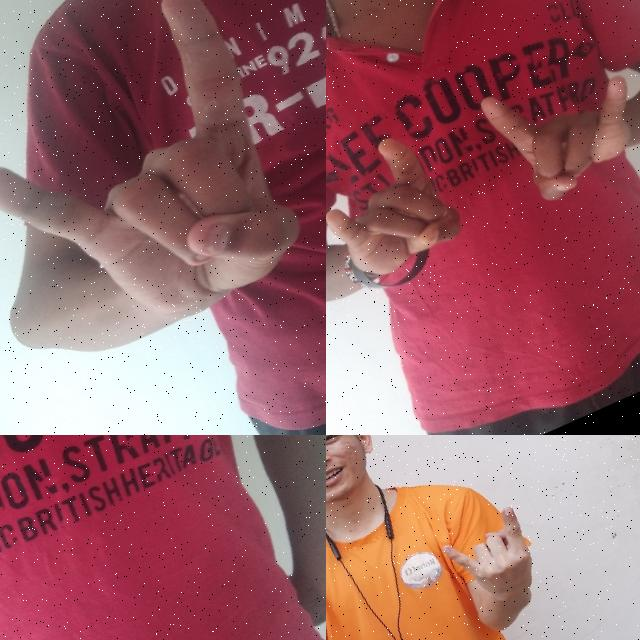Corna: (0, 0, 326, 388), (471, 36, 640, 224), (326, 116, 483, 310), (432, 494, 556, 615)
